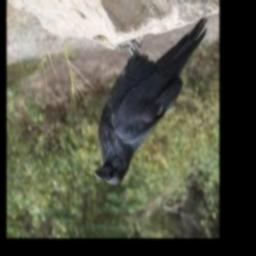Crow: (93, 16, 208, 185)
